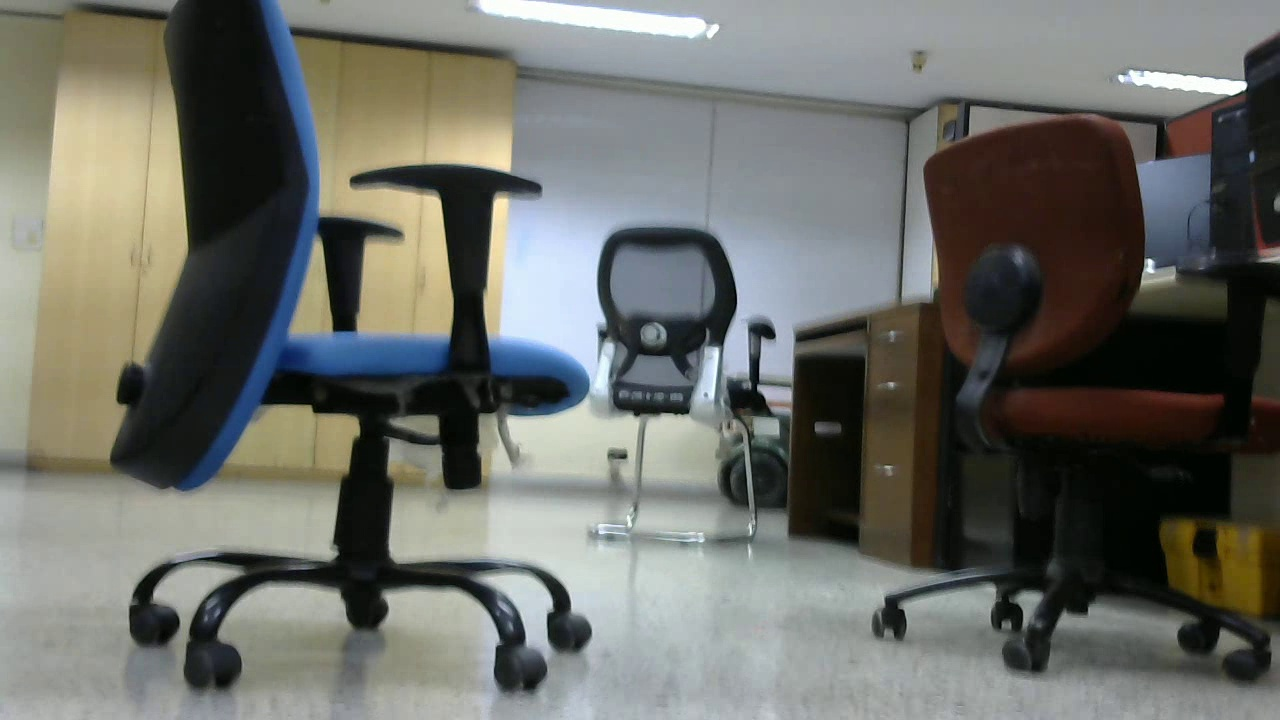chair: (112, 3, 601, 693), (883, 118, 1280, 672), (582, 224, 770, 542)
